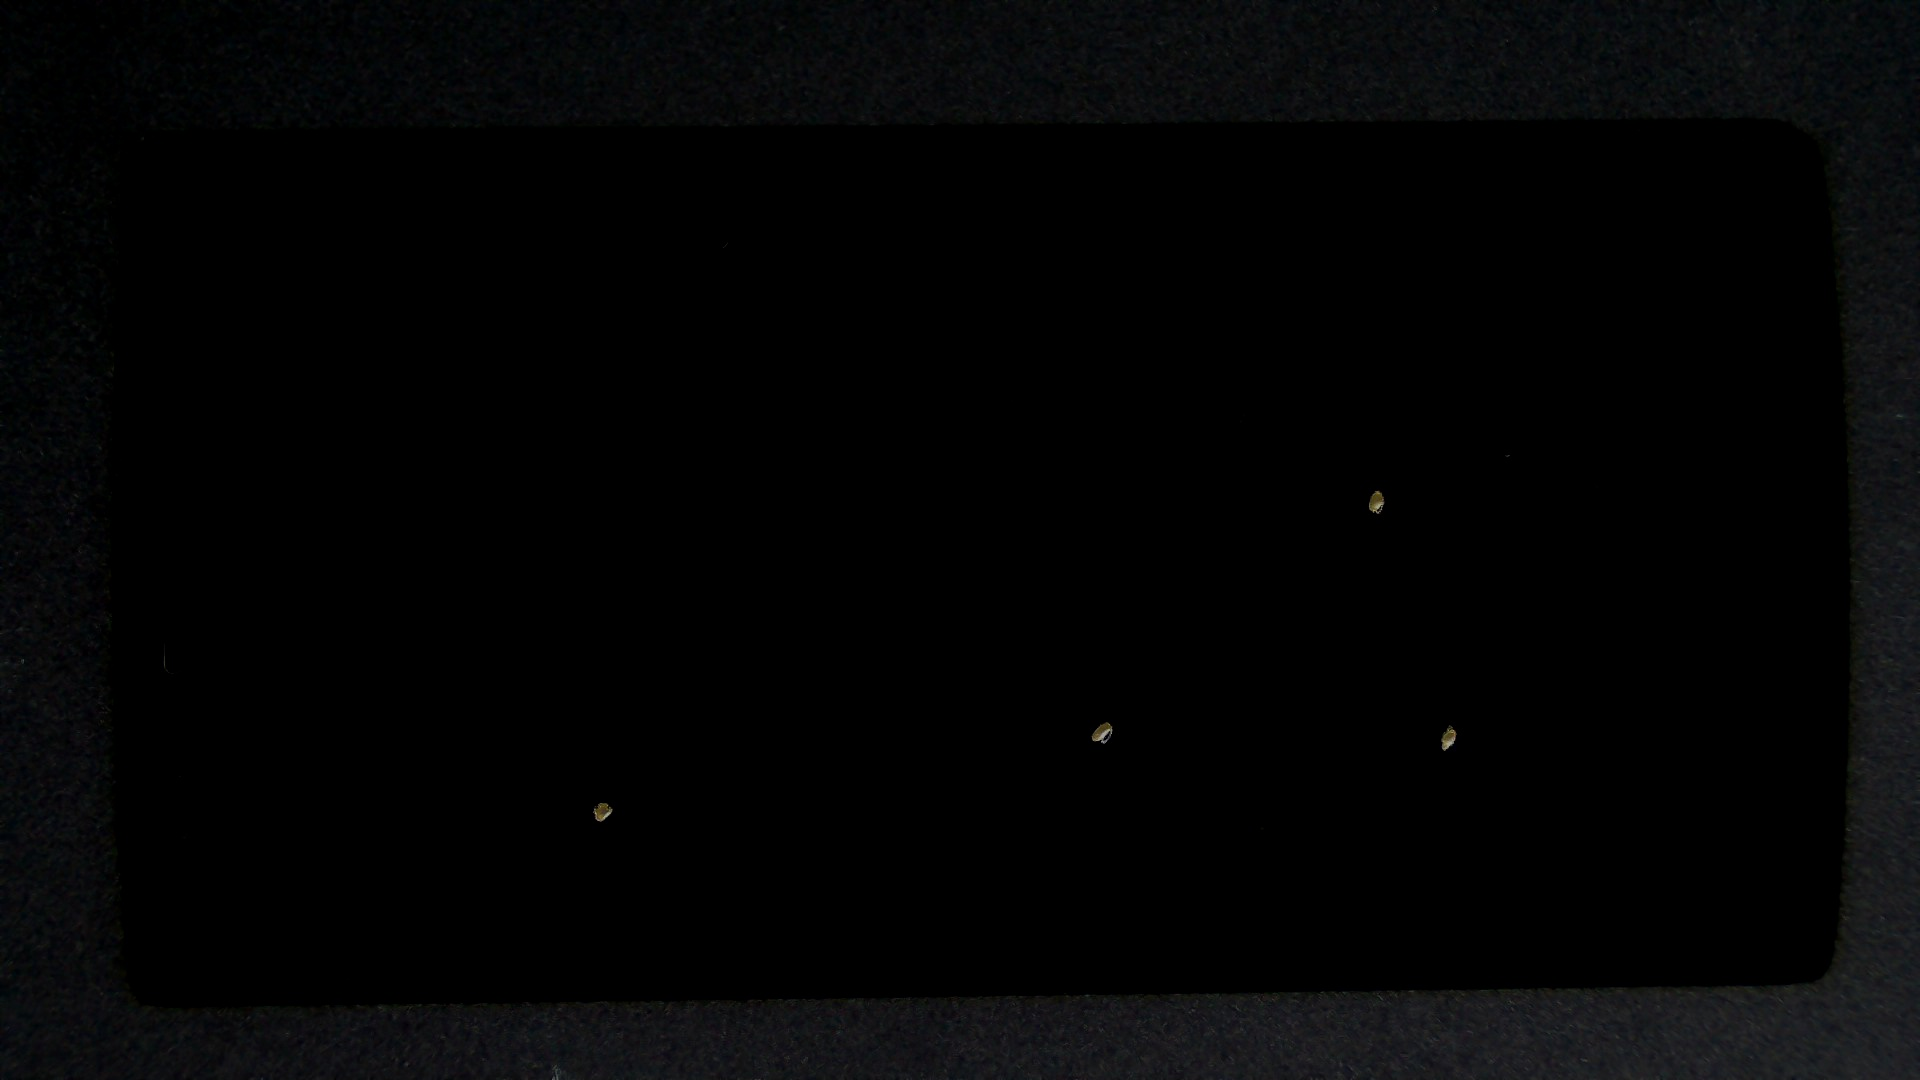oil: (727, 360, 1920, 1080), (553, 360, 1658, 1080), (688, 244, 1920, 735), (301, 400, 901, 1080)
